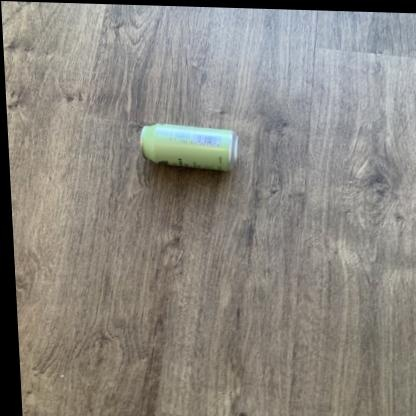trash: (140, 124, 238, 170)
